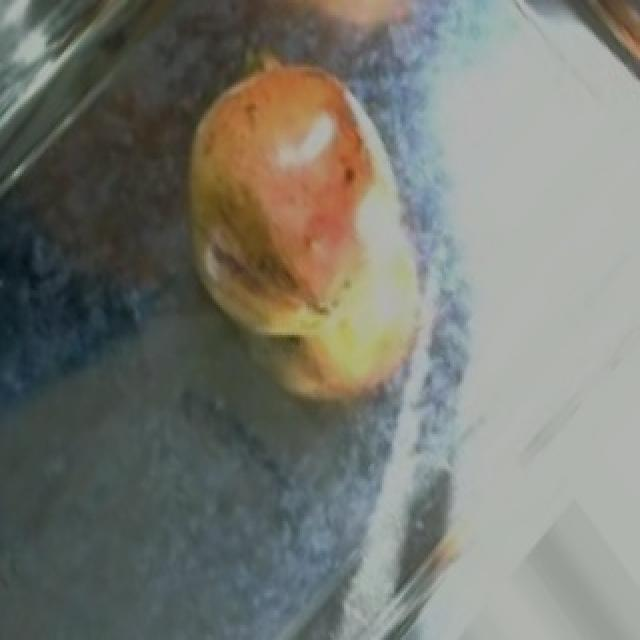fruit: (160, 32, 394, 253), (162, 148, 376, 370), (560, 0, 640, 92)
